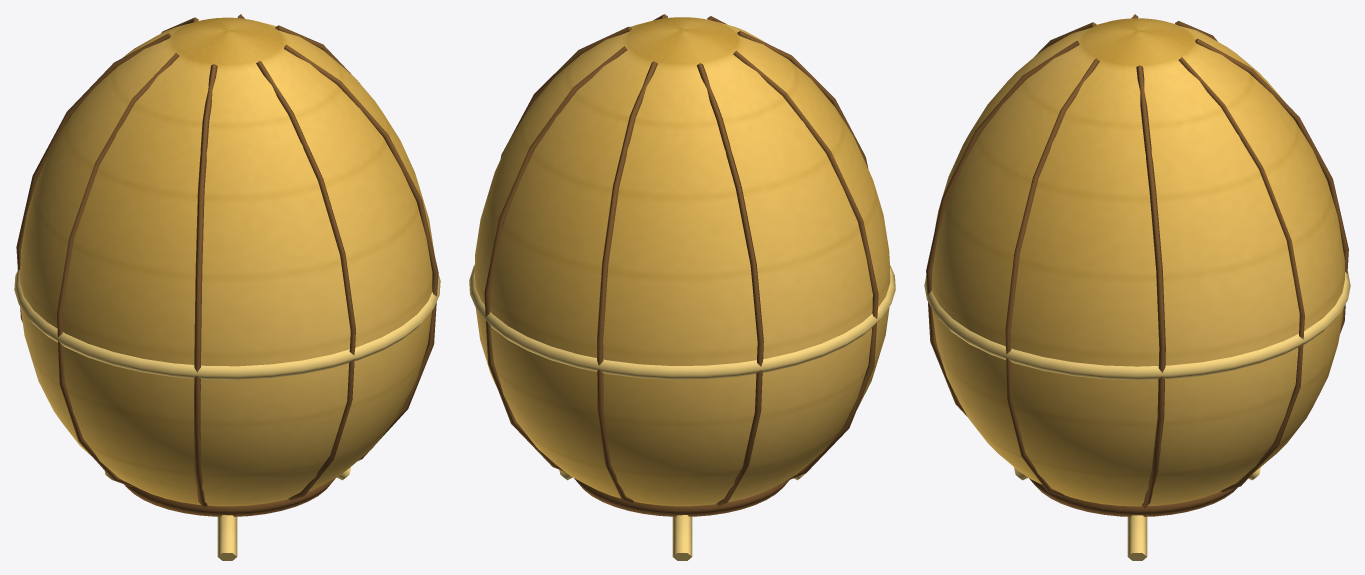
The model's file is golden_egg.obj.
3 renders of one model, left to right at view 1: azimuth 30°, elevation 25°; view 2: azimuth 150°, elevation 25°; view 3: azimuth 270°, elevation 25°, orthographic.
Parts seen in each view (by area): view 1: A_GildedShell.001_golden_egg_gold, C_EquatorialCollar.001_golden_egg_polished_rims, B_ChasedPanel5.001_golden_egg_chasing_recess, B_ChasedPanel6.001_golden_egg_chasing_recess, B_ChasedPanel4.001_golden_egg_chasing_recess, B_ChasedPanel7.001_golden_egg_chasing_recess, D_DisplayCradle.001_golden_egg_chasing_recess, B_ChasedPanel3.001_golden_egg_chasing_recess, E_CradleFoot2.001_golden_egg_polished_rims; view 2: A_GildedShell.001_golden_egg_gold, C_EquatorialCollar.001_golden_egg_polished_rims, B_ChasedPanel3.001_golden_egg_chasing_recess, B_ChasedPanel2.001_golden_egg_chasing_recess, B_ChasedPanel4.001_golden_egg_chasing_recess, B_ChasedPanel1.001_golden_egg_chasing_recess, D_DisplayCradle.001_golden_egg_chasing_recess, E_CradleFoot1.001_golden_egg_polished_rims, B_ChasedPanel5.001_golden_egg_chasing_recess, B_ChasedPanel0.001_golden_egg_chasing_recess; view 3: A_GildedShell.001_golden_egg_gold, C_EquatorialCollar.001_golden_egg_polished_rims, B_ChasedPanel0.001_golden_egg_chasing_recess, B_ChasedPanel7.001_golden_egg_chasing_recess, B_ChasedPanel1.001_golden_egg_chasing_recess, B_ChasedPanel6.001_golden_egg_chasing_recess, D_DisplayCradle.001_golden_egg_chasing_recess, B_ChasedPanel2.001_golden_egg_chasing_recess, E_CradleFoot0.001_golden_egg_polished_rims.
Boxes of the visible parts, bbox=[...] form: A_GildedShell.001_golden_egg_gold: bbox=[20, 17, 434, 506]; C_EquatorialCollar.001_golden_egg_polished_rims: bbox=[14, 269, 440, 379]; B_ChasedPanel5.001_golden_egg_chasing_recess: bbox=[194, 64, 217, 507]; B_ChasedPanel6.001_golden_egg_chasing_recess: bbox=[256, 61, 355, 500]; B_ChasedPanel4.001_golden_egg_chasing_recess: bbox=[57, 53, 179, 486]; B_ChasedPanel7.001_golden_egg_chasing_recess: bbox=[284, 44, 438, 460]; D_DisplayCradle.001_golden_egg_chasing_recess: bbox=[124, 478, 335, 516]; B_ChasedPanel3.001_golden_egg_chasing_recess: bbox=[16, 33, 170, 322]; E_CradleFoot2.001_golden_egg_polished_rims: bbox=[217, 515, 237, 560]; A_GildedShell.001_golden_egg_gold: bbox=[474, 17, 890, 506]; C_EquatorialCollar.001_golden_egg_polished_rims: bbox=[469, 265, 895, 379]; B_ChasedPanel3.001_golden_egg_chasing_recess: bbox=[697, 63, 763, 505]; B_ChasedPanel2.001_golden_egg_chasing_recess: bbox=[597, 61, 657, 503]; B_ChasedPanel4.001_golden_egg_chasing_recess: bbox=[733, 50, 878, 481]; B_ChasedPanel1.001_golden_egg_chasing_recess: bbox=[484, 46, 627, 471]; D_DisplayCradle.001_golden_egg_chasing_recess: bbox=[574, 478, 789, 516]; E_CradleFoot1.001_golden_egg_polished_rims: bbox=[672, 515, 692, 560]; B_ChasedPanel5.001_golden_egg_chasing_recess: bbox=[737, 31, 868, 168]; B_ChasedPanel0.001_golden_egg_chasing_recess: bbox=[500, 26, 631, 158]; A_GildedShell.001_golden_egg_gold: bbox=[932, 18, 1344, 506]; C_EquatorialCollar.001_golden_egg_polished_rims: bbox=[924, 271, 1350, 380]; B_ChasedPanel0.001_golden_egg_chasing_recess: bbox=[1136, 65, 1165, 508]; B_ChasedPanel7.001_golden_egg_chasing_recess: bbox=[1005, 58, 1099, 496]; B_ChasedPanel1.001_golden_egg_chasing_recess: bbox=[1178, 57, 1304, 492]; B_ChasedPanel6.001_golden_egg_chasing_recess: bbox=[926, 41, 1079, 416]; D_DisplayCradle.001_golden_egg_chasing_recess: bbox=[1029, 478, 1237, 516]; B_ChasedPanel2.001_golden_egg_chasing_recess: bbox=[1195, 38, 1348, 333]; E_CradleFoot0.001_golden_egg_polished_rims: bbox=[1127, 515, 1147, 560].
Size of the model in its own units: 1.52 by 1.86 by 1.52.
Materials: 3 (1 with a texture image).
